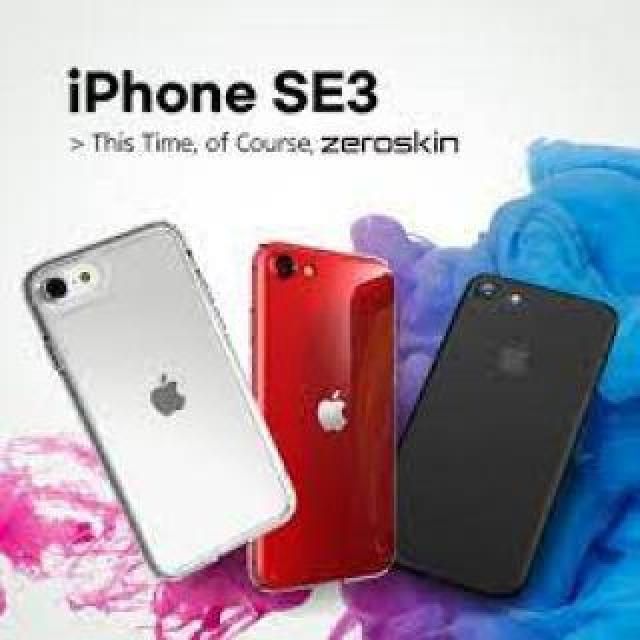smart phone: (206, 236, 432, 562), (82, 182, 258, 580), (413, 274, 632, 584)
